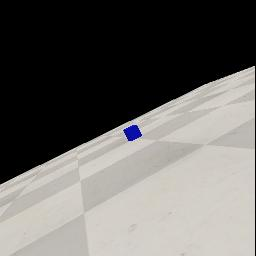box: (123, 125, 142, 141)
